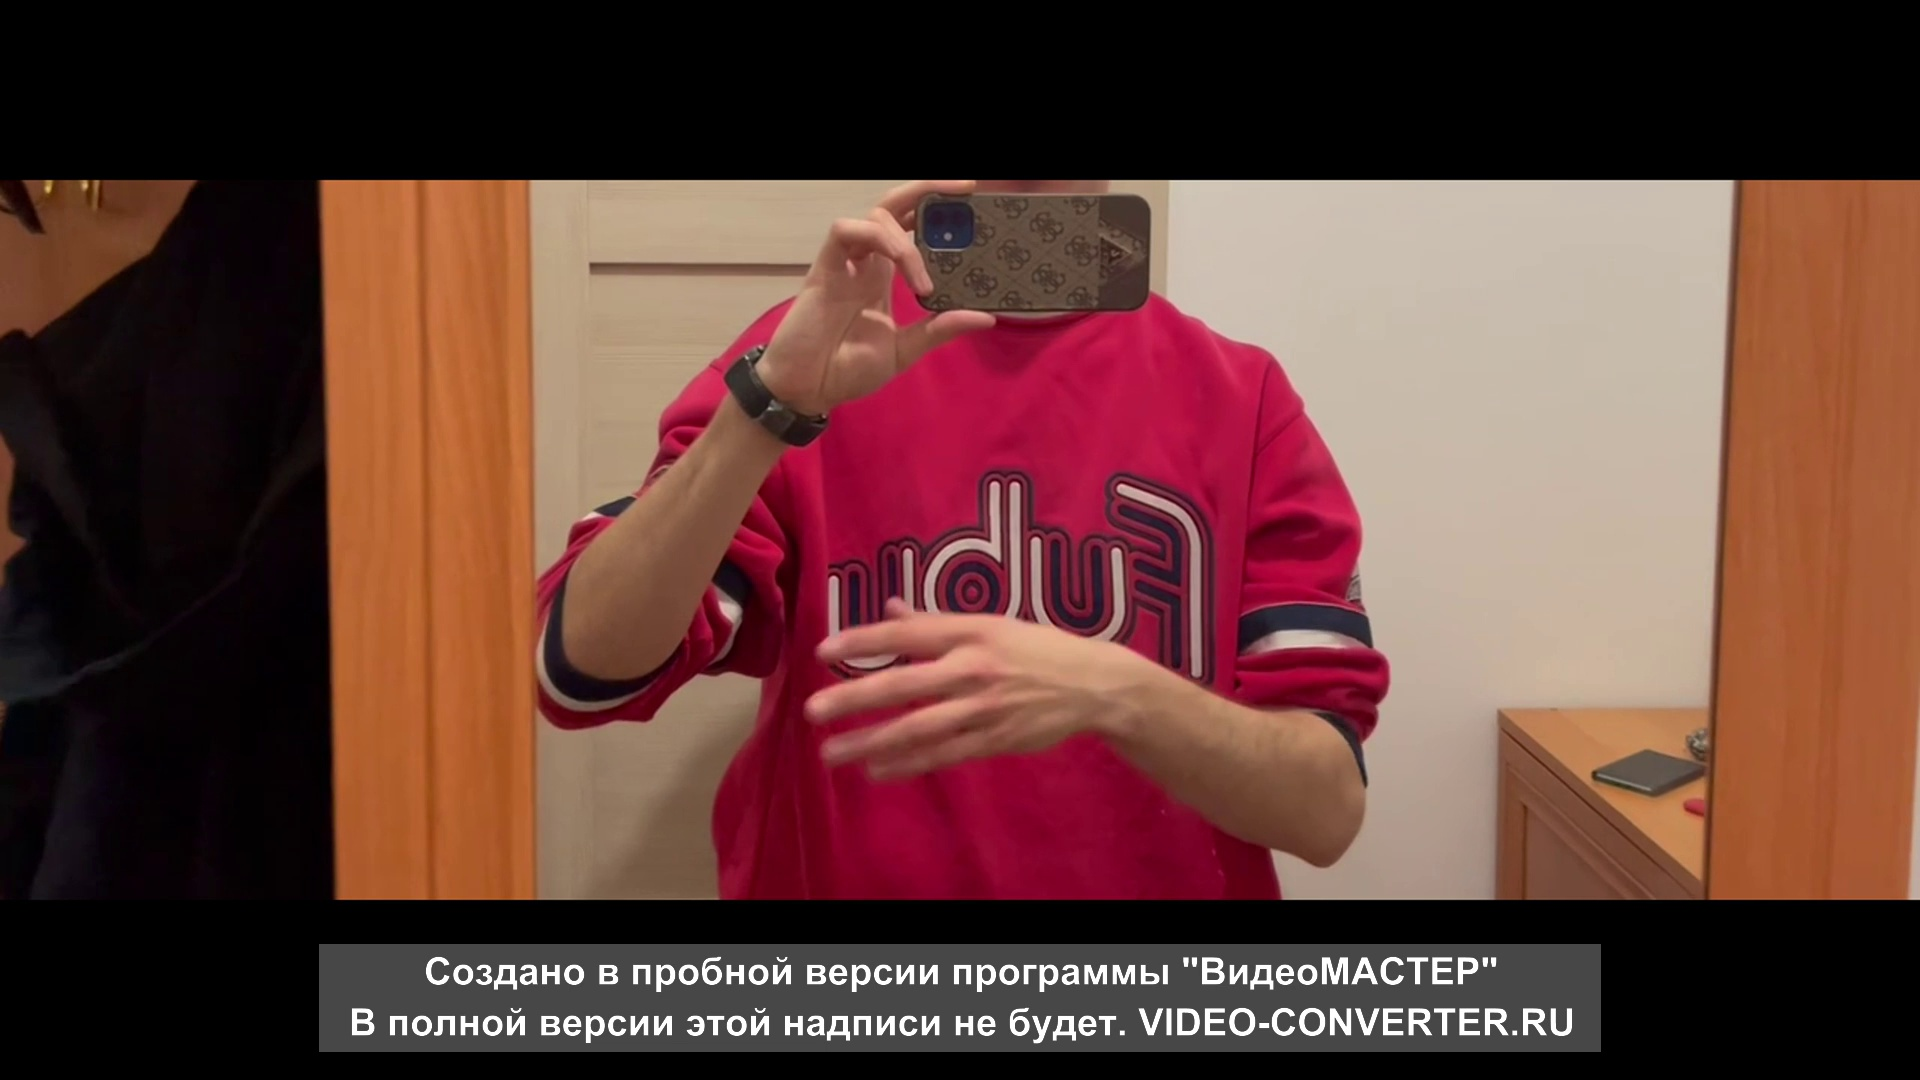Кисть: (806, 597, 1104, 781)
